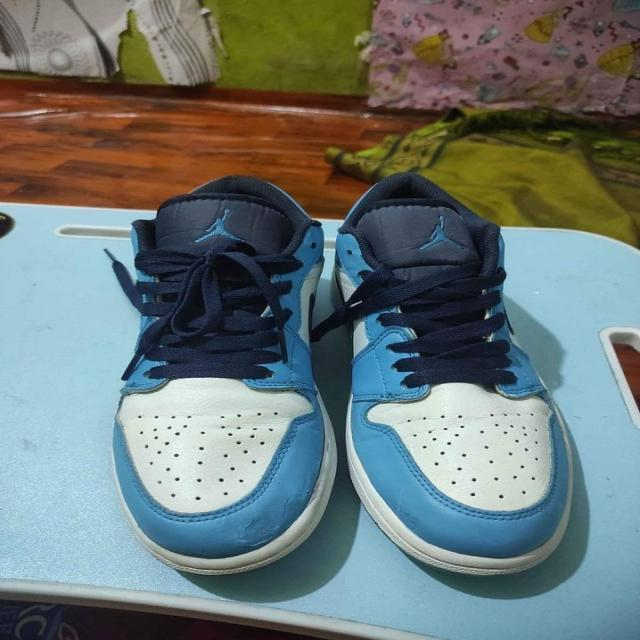nike fake jordan 1: (330, 168, 583, 578), (109, 178, 337, 581)
